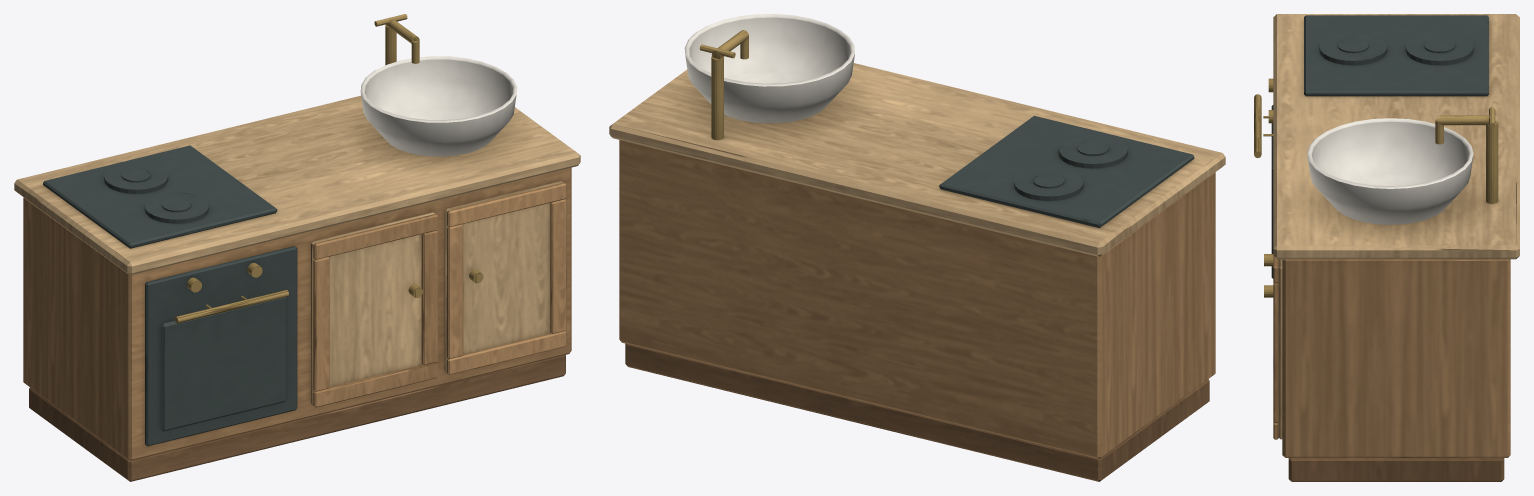
File: kitchen-island.glb
The picture shows the model from 3 angles, left to right: view 1: azimuth 30°, elevation 25°; view 2: azimuth 150°, elevation 25°; view 3: azimuth 270°, elevation 25°; orthographic projection. The views are drawn at different scales.
Parts seen in each view (by area): view 1: kitchen-island; view 2: kitchen-island; view 3: kitchen-island.
Boxes of the visible parts, bbox=[...] form: kitchen-island: bbox=[14, 14, 580, 481]; kitchen-island: bbox=[609, 14, 1225, 481]; kitchen-island: bbox=[1254, 14, 1519, 481].
Bounding box in the file's own units: 1.8 × 1.17 × 0.862.
Materials: 1 (1 with a texture image).
